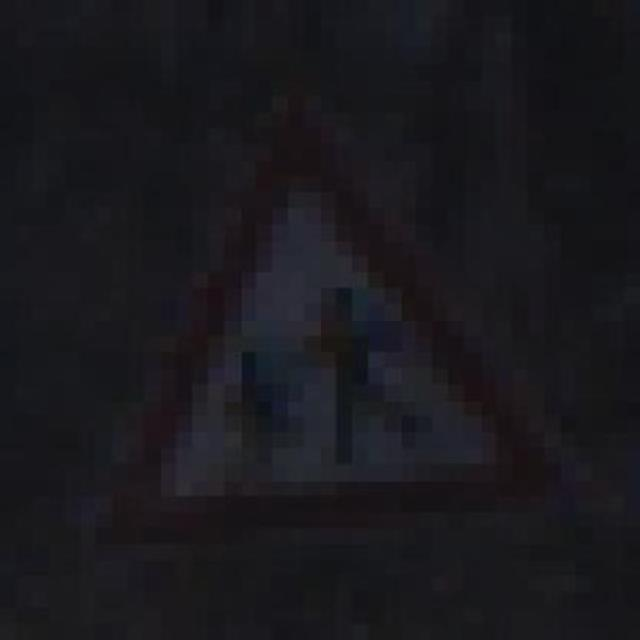Beware of children: (64, 96, 544, 544)
